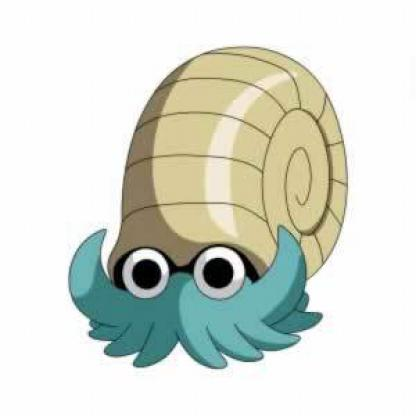Omanyte: (60, 36, 366, 375)
